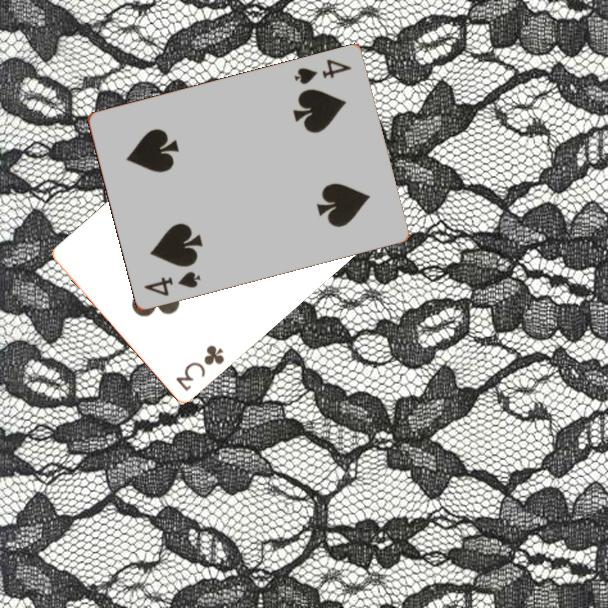c03: (172, 341, 227, 394)
s04: (290, 56, 354, 88), (141, 268, 204, 300)
